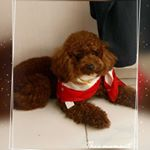puppy: (10, 29, 135, 133)
